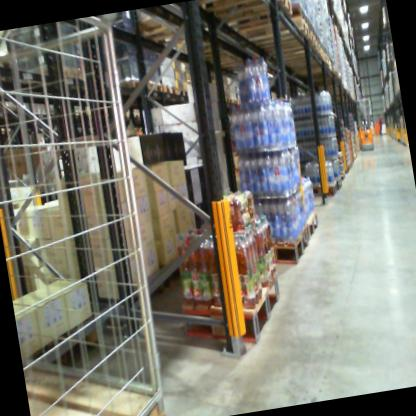pallet: (22, 334, 179, 416), (175, 265, 292, 361), (38, 307, 112, 367), (178, 0, 296, 35), (133, 1, 213, 49), (237, 12, 312, 51), (262, 218, 316, 267), (254, 29, 318, 58), (304, 173, 340, 207), (117, 72, 151, 99), (298, 209, 323, 245), (148, 75, 164, 95), (161, 81, 178, 96), (176, 86, 190, 102), (332, 174, 343, 192), (220, 90, 232, 106)
pallet_truck: (351, 92, 379, 153)
